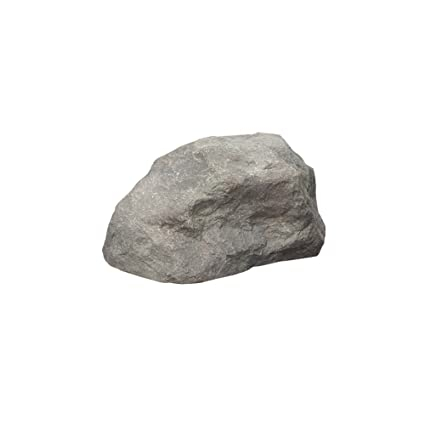stone: (95, 112, 333, 291)
